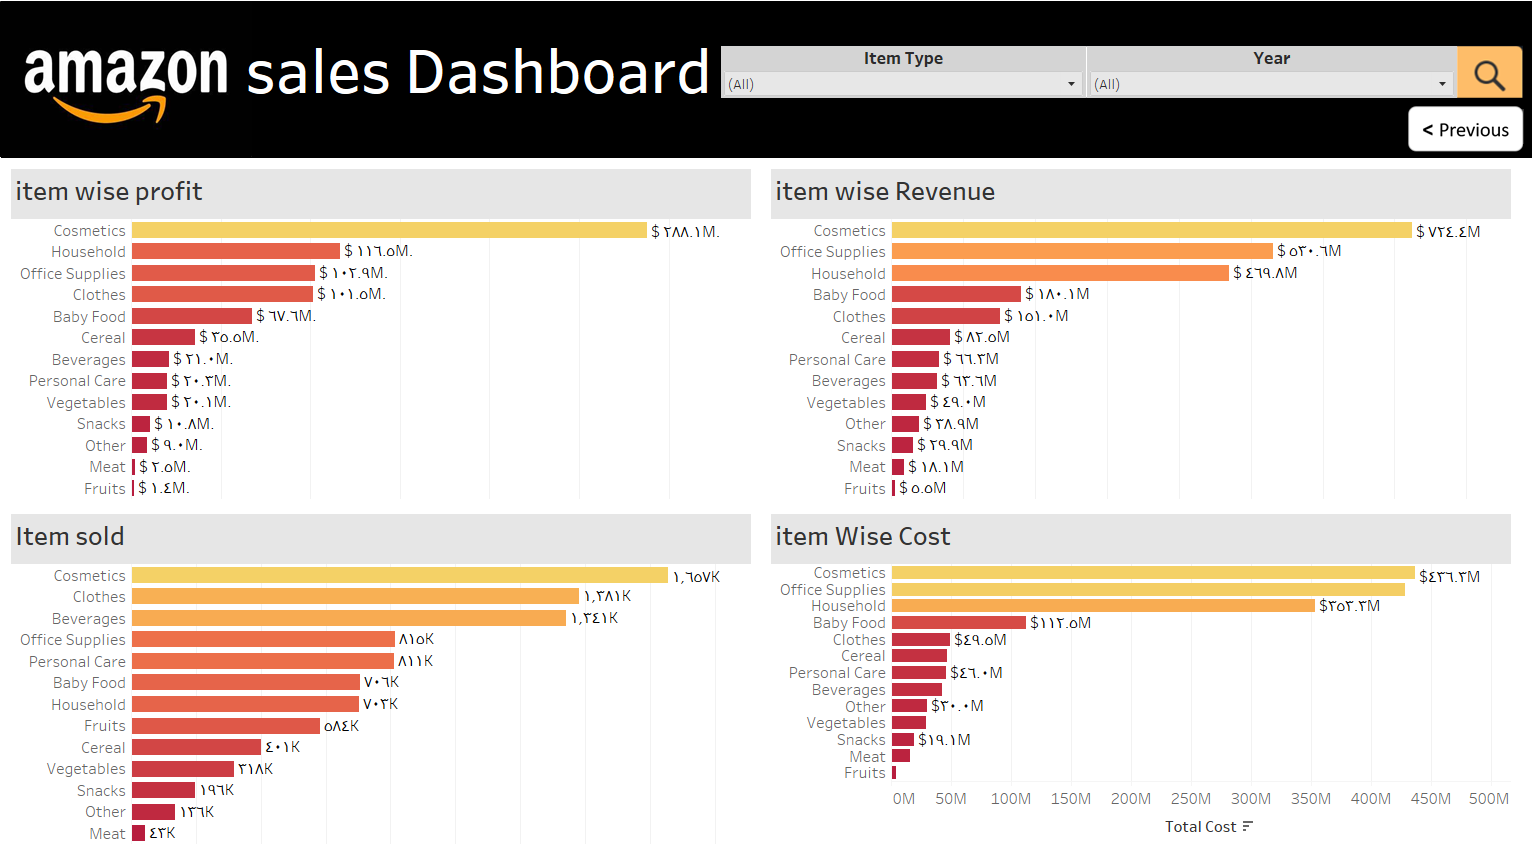

The dashboard page shown, as its layout file describes it:
{"tool":"tableau","page":{"name":"Item analysis","canvas":[1000,1000],"units":"permille","ordinal":0},"visuals":[{"type":"image","param":"Image/OIP (1).jpeg","box":[5.2,2.3,165.2,181.4]},{"type":"image","param":"Image/Picture5.png","box":[471,14,517.4,141.9]},{"type":"filter","title":"item wise profit","param":"[federated.1of22ez188idjv1fwwd611wyhbgc].[none:Item Type:nk]","box":[471,54.6,235.5,60.5]},{"type":"filter","title":"item wise profit","param":"[federated.1of22ez188idjv1fwwd611wyhbgc].[yr:Order Date:ok]","box":[707.1,54.6,238.7,60.5]},{"type":"dashboard-object","box":[916.8,117.4,72.3,62.8]},{"type":"dashboard-object","box":[914.2,122.1,74.2,64]},{"type":"worksheet","title":"item wise profit","mark":"Automatic","rows":["Item Type"],"cols":["Calculation_639511169286885376"],"box":[12.9,197.7,477.4,383.7]},{"type":"worksheet","title":"item wise Revenue","mark":"Automatic","rows":["Item Type"],"cols":["Total Revenue"],"box":[503.2,197.7,477.4,383.7]},{"type":"worksheet","title":"Item sold","mark":"Automatic","rows":["Item Type"],"cols":["Units Sold"],"box":[12.9,598.8,477.4,383.7]},{"type":"worksheet","title":"item Wise Cost","mark":"Automatic","rows":["Item Type"],"cols":["Total Cost"],"box":[503.2,598.8,477.4,383.7]}]}

Visuals, with their boxes on the dashboard's canvas, which has no fixed pixel size, in thousandths of its width and height (x1, y1, x2, y2). These are canvas units, not pixel positions in the 1532x850 screenshot, which may show the page scaled, cropped or inside an application window:
image: locate(5, 2, 170, 184)
image: locate(471, 14, 988, 156)
"item wise profit" filter: locate(471, 55, 706, 115)
"item wise profit" filter: locate(707, 55, 946, 115)
dashboard-object: locate(917, 117, 989, 180)
dashboard-object: locate(914, 122, 988, 186)
"item wise profit" worksheet: locate(13, 198, 490, 581)
"item wise Revenue" worksheet: locate(503, 198, 981, 581)
"Item sold" worksheet: locate(13, 599, 490, 982)
"item Wise Cost" worksheet: locate(503, 599, 981, 982)
